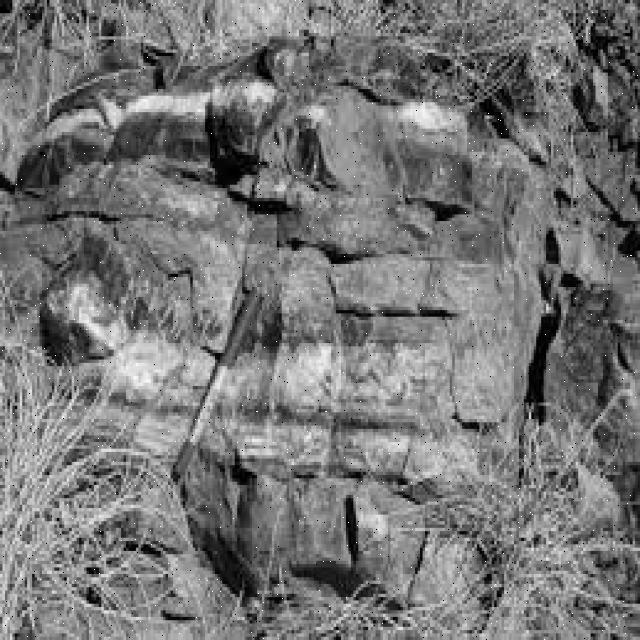Metamorphic: (35, 60, 551, 568)
